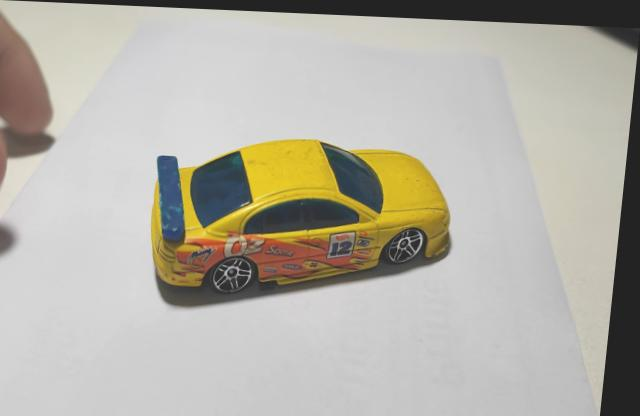02_OZSOME: (156, 136, 457, 295)
